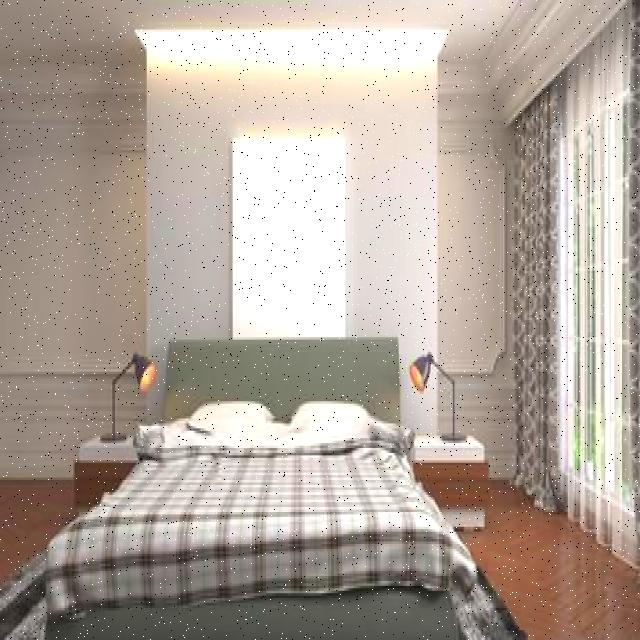bed: (43, 386, 458, 640)
